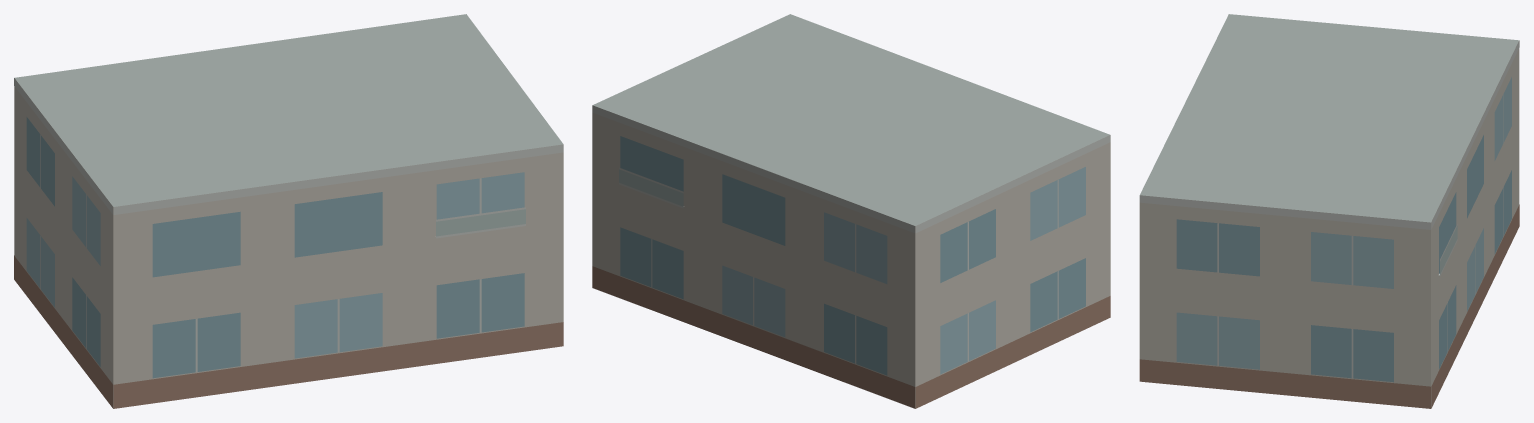
The model's file is survey-upis-32939104.glb.
3 renders of one model, left to right at view 1: azimuth 30°, elevation 25°; view 2: azimuth 150°, elevation 25°; view 3: azimuth 270°, elevation 25°, orthographic. The views are drawn at different scales.
Visible parts, largest first — view 1: survey-upis-32939104.tmp; view 2: survey-upis-32939104.tmp; view 3: survey-upis-32939104.tmp.
Part boxes in pixels (<box>): survey-upis-32939104.tmp: <box>14,14,563,408</box>; survey-upis-32939104.tmp: <box>592,14,1110,408</box>; survey-upis-32939104.tmp: <box>1139,14,1519,408</box>.
Bounding box in the file's own units: 14.65 × 6.1 × 11.27.
